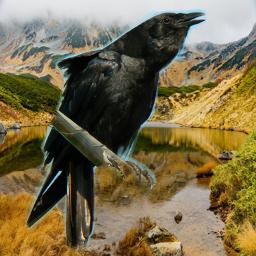Crow: (25, 9, 207, 252)
Cuckoo: (103, 150, 125, 179)
